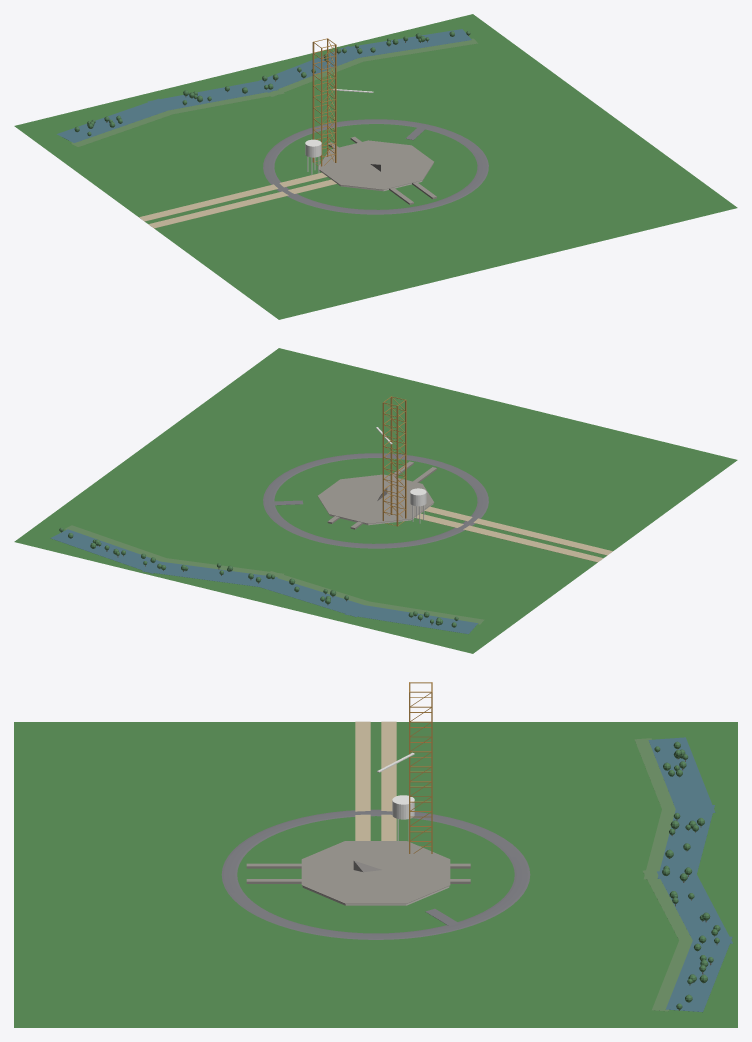
The model's file is LaunchPad_39B_Environment.glb.
3 views of the same model, one above another, from view 1: azimuth 30°, elevation 25°; view 2: azimuth 150°, elevation 25°; view 3: azimuth 270°, elevation 25° (orthographic). The views are drawn at different scales.
Visible parts, largest first — view 1: Grass_Ground, Pad_Rim, Perimeter_Loop_Road, River_Seg_0, River_Seg_2, River_Seg_3, River_Seg_1, Crawlerway_Lane_S, Crawlerway_Lane_N, Marsh_Seg_0, Marsh_Seg_3, Marsh_Seg_1 (+1 smaller); view 2: Grass_Ground, Pad_Rim, Perimeter_Loop_Road, River_Seg_0, River_Seg_1, River_Seg_2, River_Seg_3, Crawlerway_Lane_N, Crawlerway_Lane_S, Marsh_Seg_0, Marsh_Seg_2, Marsh_Seg_3; view 3: Grass_Ground, Pad_Rim, Perimeter_Loop_Road, River_Seg_0, River_Seg_3, River_Seg_2, River_Seg_1, Crawlerway_Lane_S, Crawlerway_Lane_N, Marsh_Seg_0, Marsh_Seg_2, Marsh_Seg_3 (+1 smaller).
Part boxes in pixels (x1,y1,x2,y2): Grass_Ground: (14,14,737,319); Pad_Rim: (317,140,433,189); Perimeter_Loop_Road: (263,119,488,214); River_Seg_0: (57,98,175,142); River_Seg_2: (251,46,366,92); River_Seg_3: (340,29,471,59); River_Seg_1: (147,80,278,110); Crawlerway_Lane_S: (148,179,336,228); Crawlerway_Lane_N: (139,172,327,221); Marsh_Seg_0: (70,109,179,147); Marsh_Seg_3: (353,38,477,62); Marsh_Seg_1: (170,88,284,114); Grass_Ground: (14,348,737,653); Pad_Rim: (318,474,434,523); Perimeter_Loop_Road: (263,453,488,548); River_Seg_0: (345,605,477,634); River_Seg_1: (251,575,372,617); River_Seg_2: (142,560,277,588); River_Seg_3: (50,529,161,573); Crawlerway_Lane_N: (415,513,603,562); Crawlerway_Lane_S: (424,506,612,555); Marsh_Seg_0: (358,600,484,624); Marsh_Seg_2: (155,557,284,578); Marsh_Seg_3: (64,525,165,558); Grass_Ground: (14,722,737,1027); Pad_Rim: (301,841,450,903); Perimeter_Loop_Road: (221,809,530,939); River_Seg_0: (648,737,715,815); River_Seg_3: (665,934,732,1012); River_Seg_2: (657,868,732,943); River_Seg_1: (657,803,714,880); Crawlerway_Lane_S: (355,721,370,840); Crawlerway_Lane_N: (381,721,396,840); Marsh_Seg_0: (634,738,675,814); Marsh_Seg_2: (643,869,692,945); Marsh_Seg_3: (652,935,692,1011).
Bounding box in the file's own units: 420 × 121 × 420.
